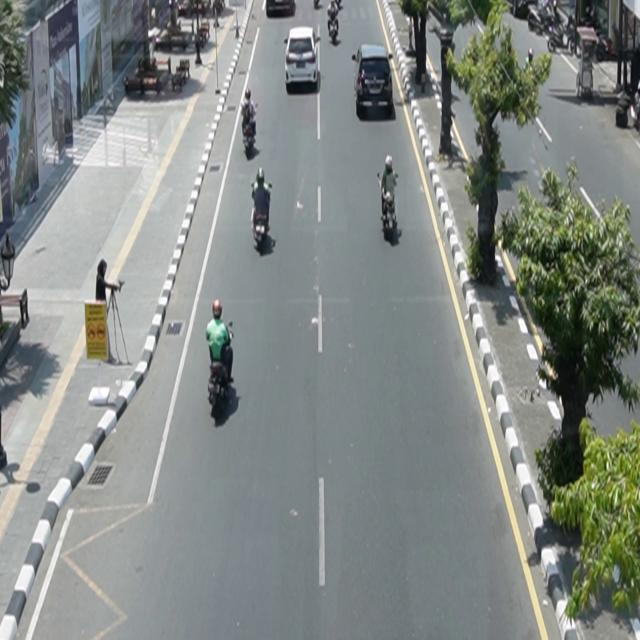car: (353, 44, 394, 115), (285, 26, 322, 87)
